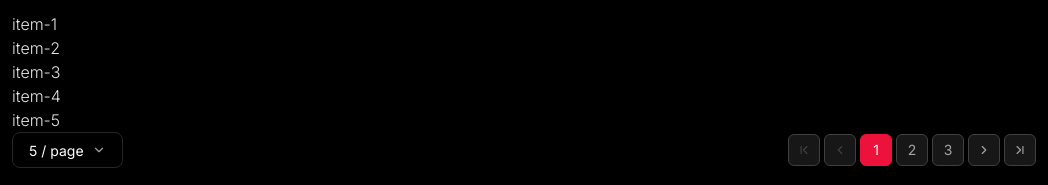
Scenario: usePagination › usage with Pagination › renders the current page and navigates with the Next button
Expected: the list item "item-1" is shown, [12,14,57,34]
Expected: the list item "item-5" is shown, [12,110,60,130]
Click the button named "Next page" at (984, 150), box [968,134,1000,166]
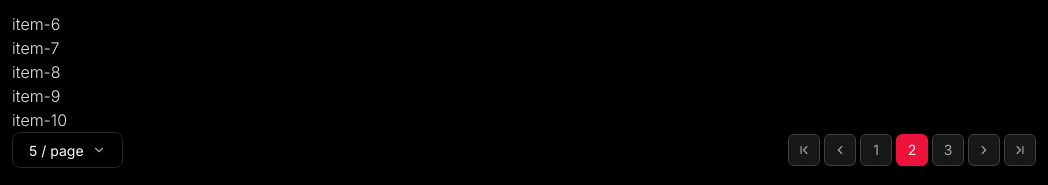
Result: the list item "item-6" is shown at [12,14,60,34]
Result: the list item "item-10" is shown at [12,110,67,130]
